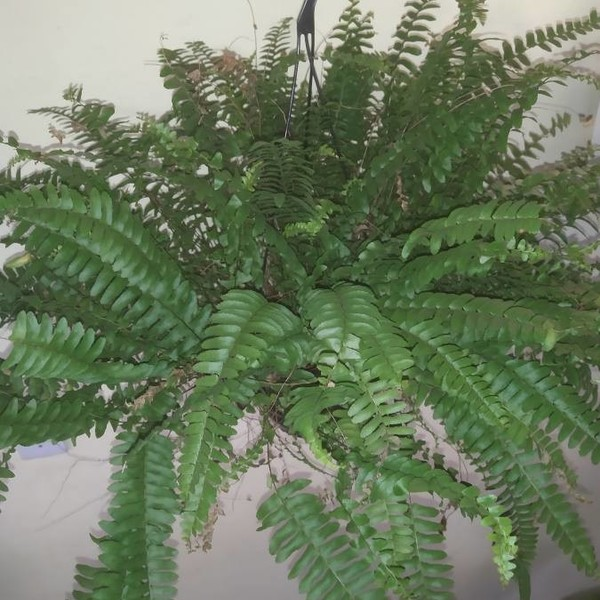obstacle: (30, 72, 546, 566)
